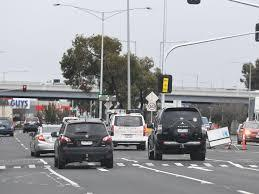Bump: (0, 160, 259, 167)
